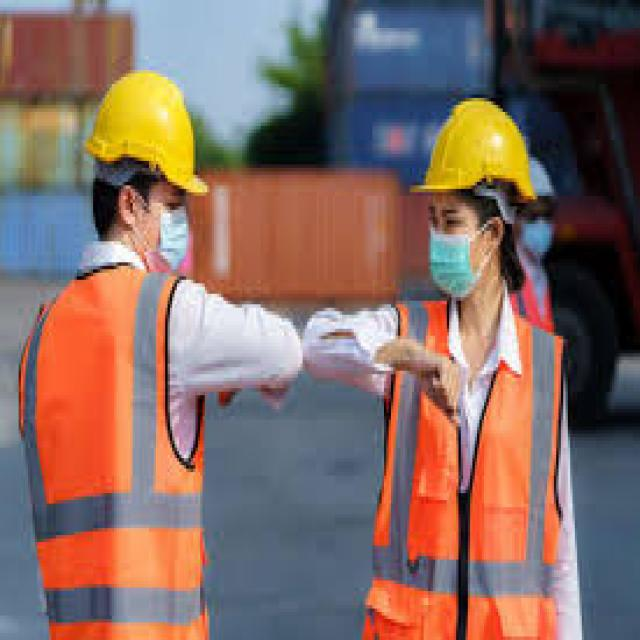Reflective-Jacket: (361, 301, 575, 636), (17, 266, 210, 636)
Safety-Helmet: (79, 63, 210, 206), (407, 91, 540, 210)
